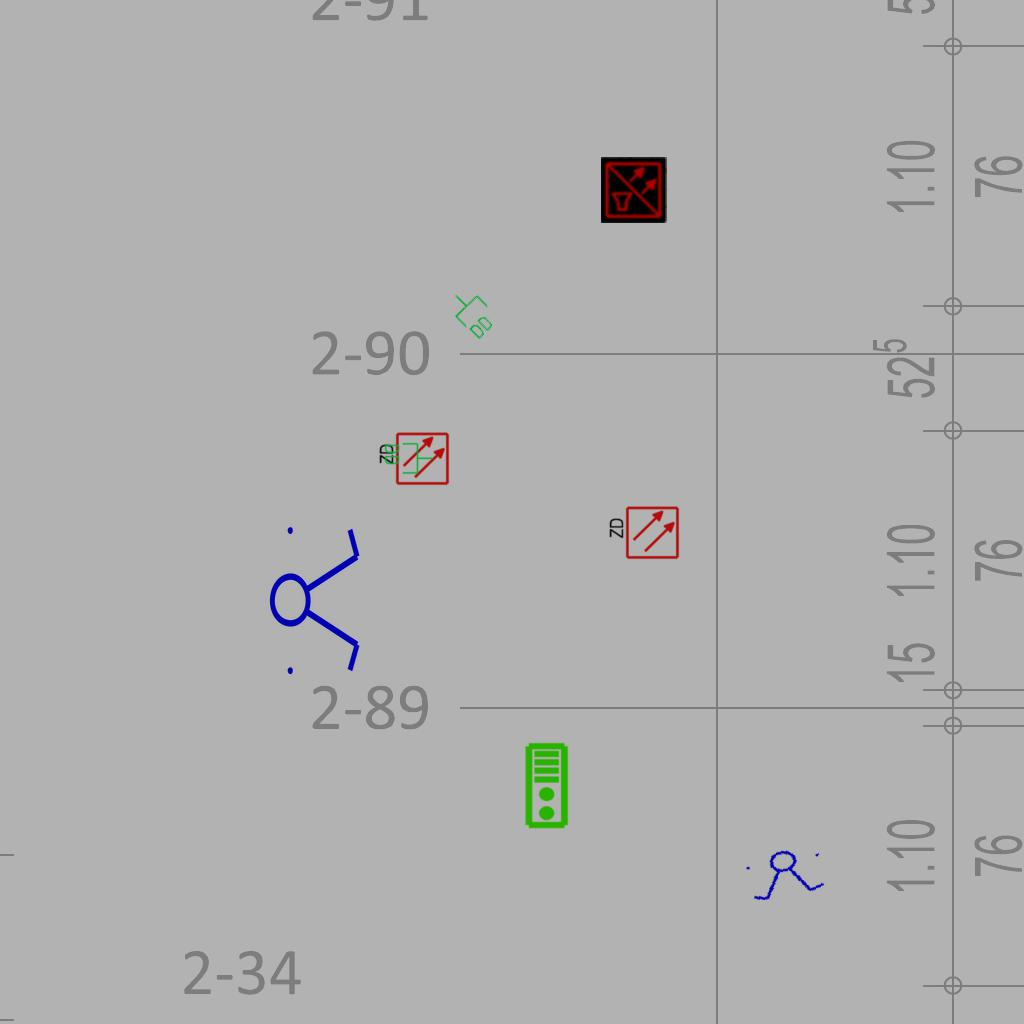Datenanschluss_zweifach: (442, 282, 503, 344), (383, 441, 434, 475)
Gegensprechanlage_mit_Video: (524, 742, 571, 830)
OKW_Multisensormelder_(Kombination_optischer_Rauch-Kahlenmonoxid_Waerme-Melder): (601, 157, 667, 223)
Serienschalter: (268, 515, 364, 683), (740, 842, 832, 906)
ZD_Melder_in_Zwischendecke_mit_Revisionsoeffnung_mind_40_x_40_cm: (606, 505, 680, 562), (376, 431, 450, 488)
